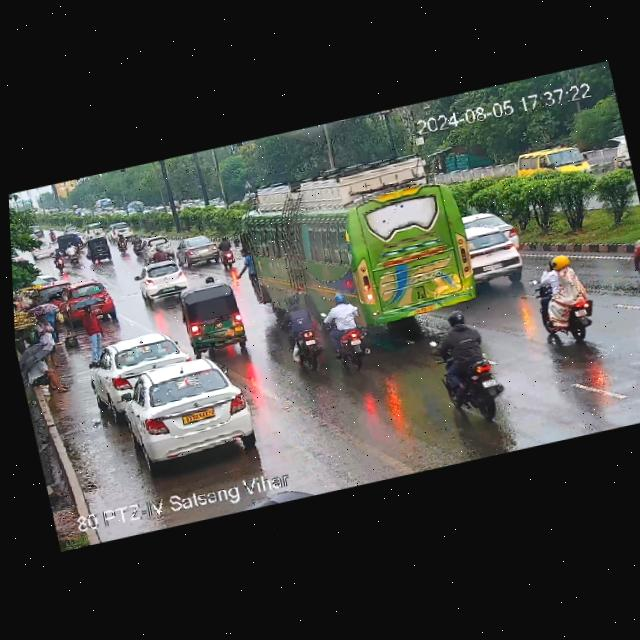bus: (231, 141, 485, 351)
car: (114, 347, 258, 468), (87, 325, 196, 409), (172, 273, 257, 361), (450, 202, 531, 293), (511, 138, 602, 189), (130, 255, 194, 305), (60, 275, 117, 322), (174, 230, 225, 267), (609, 129, 633, 176), (41, 301, 65, 346), (84, 232, 114, 267), (141, 232, 173, 261), (625, 227, 640, 281), (108, 219, 131, 236), (83, 221, 105, 237), (64, 222, 79, 234)
motorcycle: (421, 301, 520, 422), (526, 242, 601, 349), (320, 288, 378, 372), (212, 231, 239, 273), (114, 231, 134, 255), (30, 239, 53, 257), (67, 245, 81, 267), (52, 250, 66, 271), (153, 244, 168, 263), (49, 229, 55, 243)
person: (32, 313, 63, 369), (28, 358, 66, 398), (81, 304, 105, 361)
